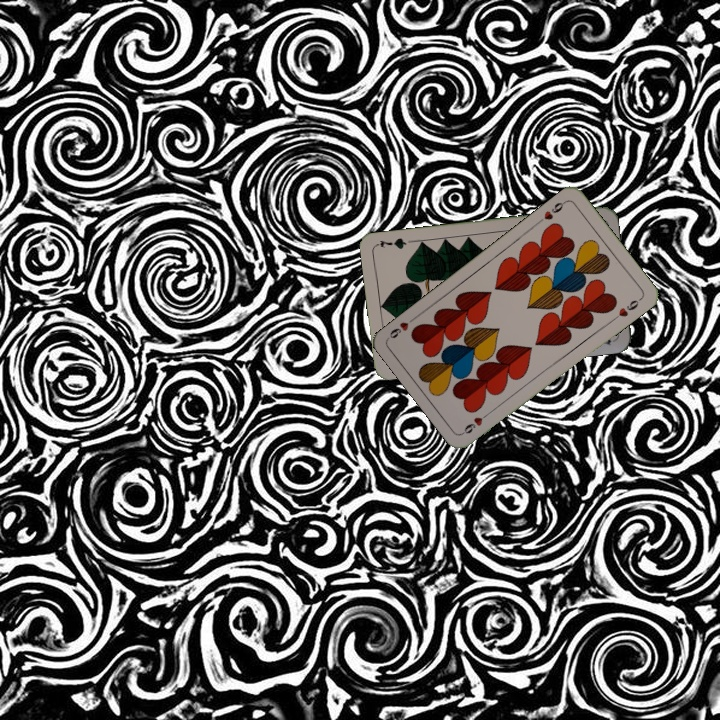H9: (458, 408, 494, 437), (534, 197, 569, 226)
